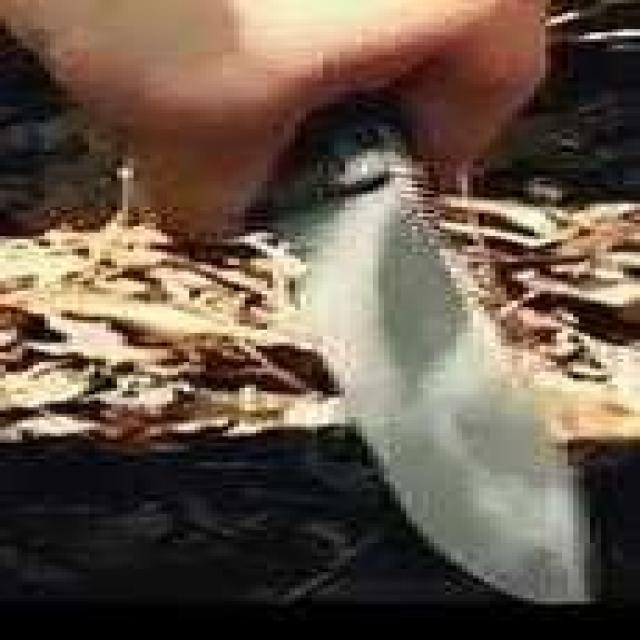knife: (210, 0, 602, 608)
